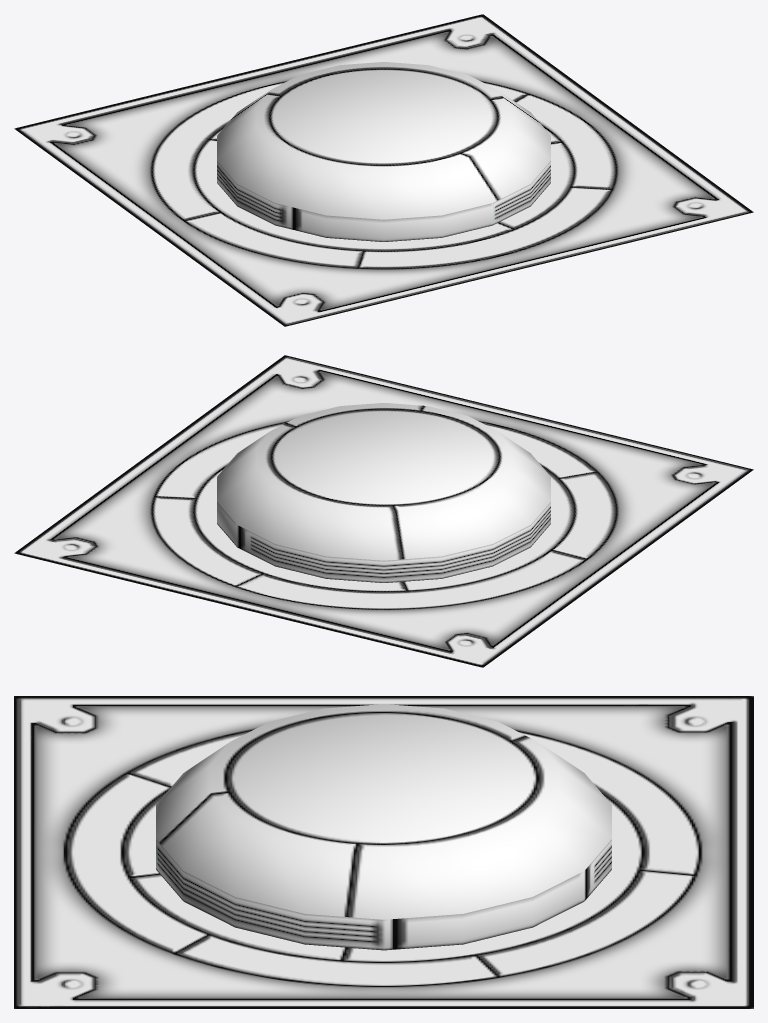
Rendered from Sect_Floor_10.FBX.
The picture shows the model from 3 angles, top to bottom: view 1: azimuth 30°, elevation 25°; view 2: azimuth 150°, elevation 25°; view 3: azimuth 270°, elevation 25°; orthographic projection. The views are drawn at different scales.
Visible parts, largest first — view 1: Floor_10; view 2: Floor_10; view 3: Floor_10.
Part boxes in pixels (<box>): Floor_10: <box>14,14,753,326</box>; Floor_10: <box>14,355,753,667</box>; Floor_10: <box>14,696,753,1008</box>.
Bounding box in the file's own units: 4 × 0.4399 × 4.
